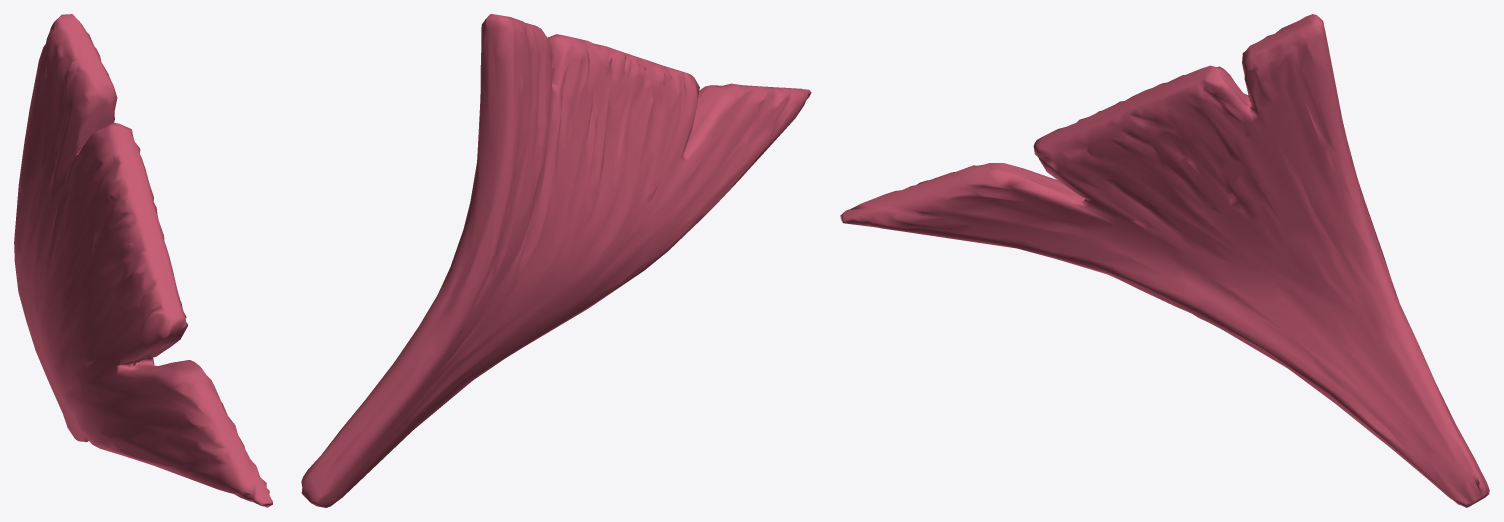
3 views of the same model, side by side, from view 1: azimuth 30°, elevation 25°; view 2: azimuth 150°, elevation 25°; view 3: azimuth 270°, elevation 25° (orthographic). The views are drawn at different scales.
Parts seen in each view (by area): view 1: 右侧甲会厌肌; view 2: 右侧甲会厌肌; view 3: 右侧甲会厌肌.
Boxes of the visible parts, x1=… form: 右侧甲会厌肌: x1=14, y1=14, x2=272, y2=507; 右侧甲会厌肌: x1=301, y1=14, x2=811, y2=507; 右侧甲会厌肌: x1=840, y1=14, x2=1489, y2=507.
Size of the model in its own units: 0.0125 by 0.0277 by 0.0367.
